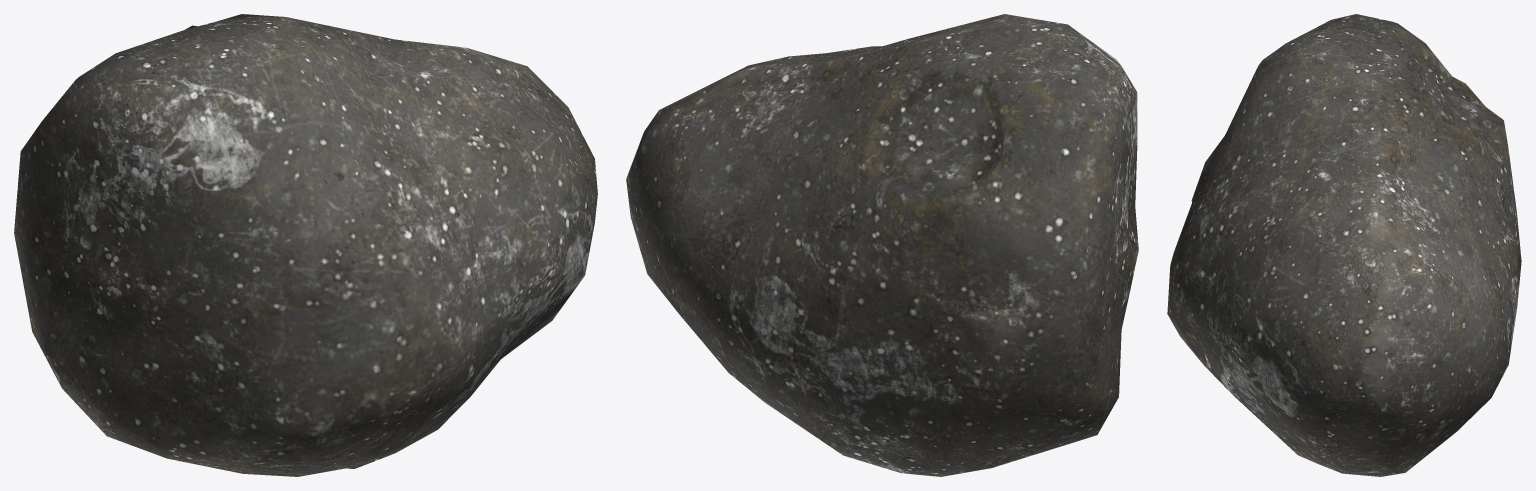
Rendered from asteroid.glb.
The picture shows the model from 3 angles, left to right: view 1: azimuth 30°, elevation 25°; view 2: azimuth 150°, elevation 25°; view 3: azimuth 270°, elevation 25°; orthographic projection. The views are drawn at different scales.
Parts seen in each view (by area): view 1: Daphne_LP.001; view 2: Daphne_LP.001; view 3: Daphne_LP.001.
Part boxes in pixels (x1,y1,x2,y2): Daphne_LP.001: (14, 14, 597, 476); Daphne_LP.001: (626, 14, 1138, 476); Daphne_LP.001: (1167, 14, 1521, 476).
Size of the model in its own units: 29.22 by 24.63 by 20.9.
1 material, 1 textured.
